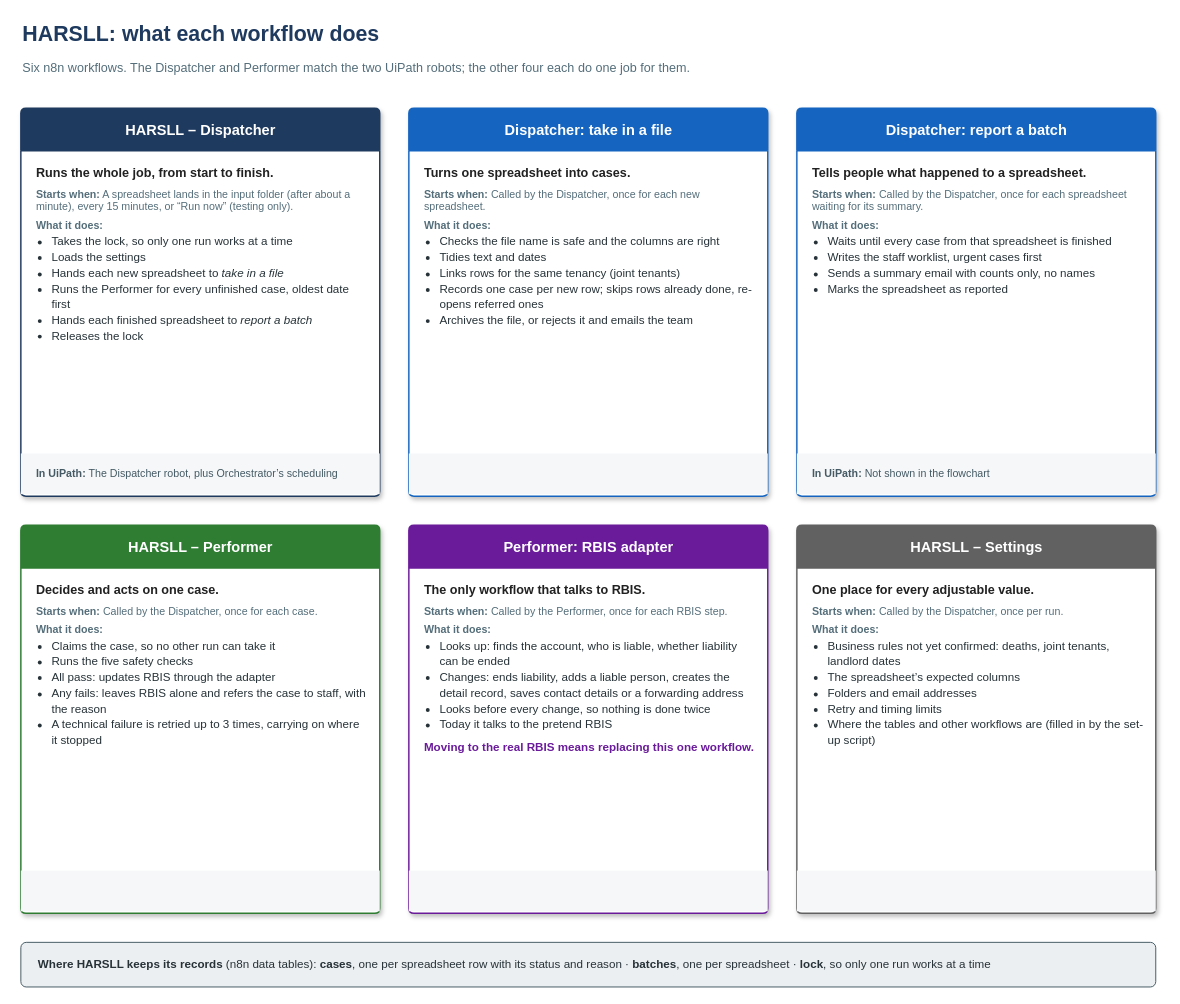
This 1180x1004 diagram has some shape labels left out. The shapes that lost their labels are listed below. From the top down, each one's centre as x and y in pixels, then its label:
(x=587, y=473): In UiPath: The Dispatcher robot reading the file and filling the queue
(x=199, y=890): In UiPath: The Performer robot
(x=587, y=890): In UiPath: The RBIS screen steps inside the Performer robot
(x=975, y=890): In UiPath: “Get Assets” and the robot’s config file
